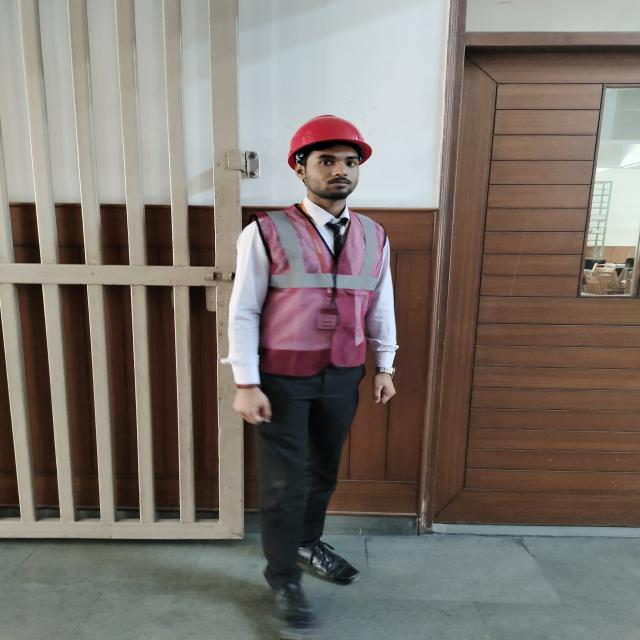safe: (229, 115, 395, 624)
